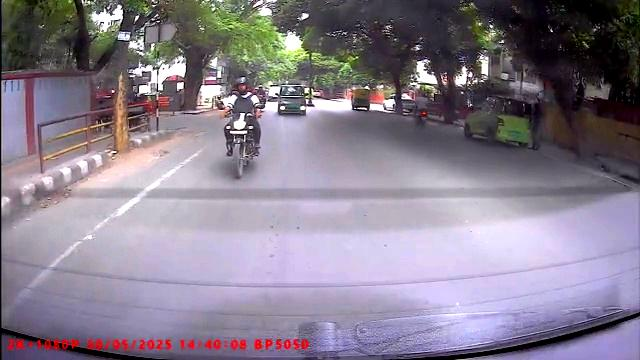motorcycle_with_helmet: (222, 75, 263, 181)
